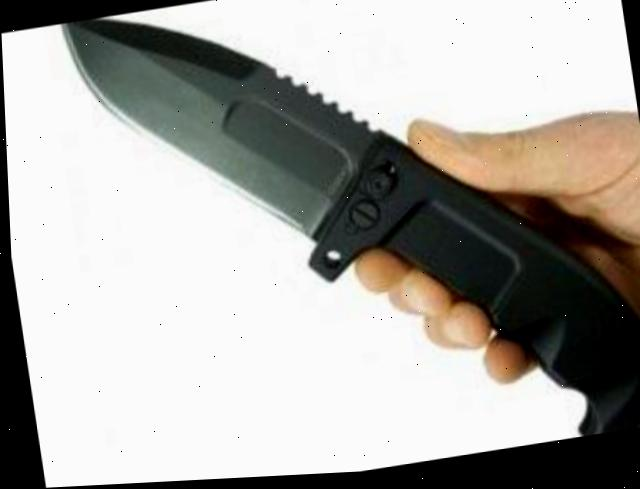pocket-knife: (28, 0, 640, 488)
